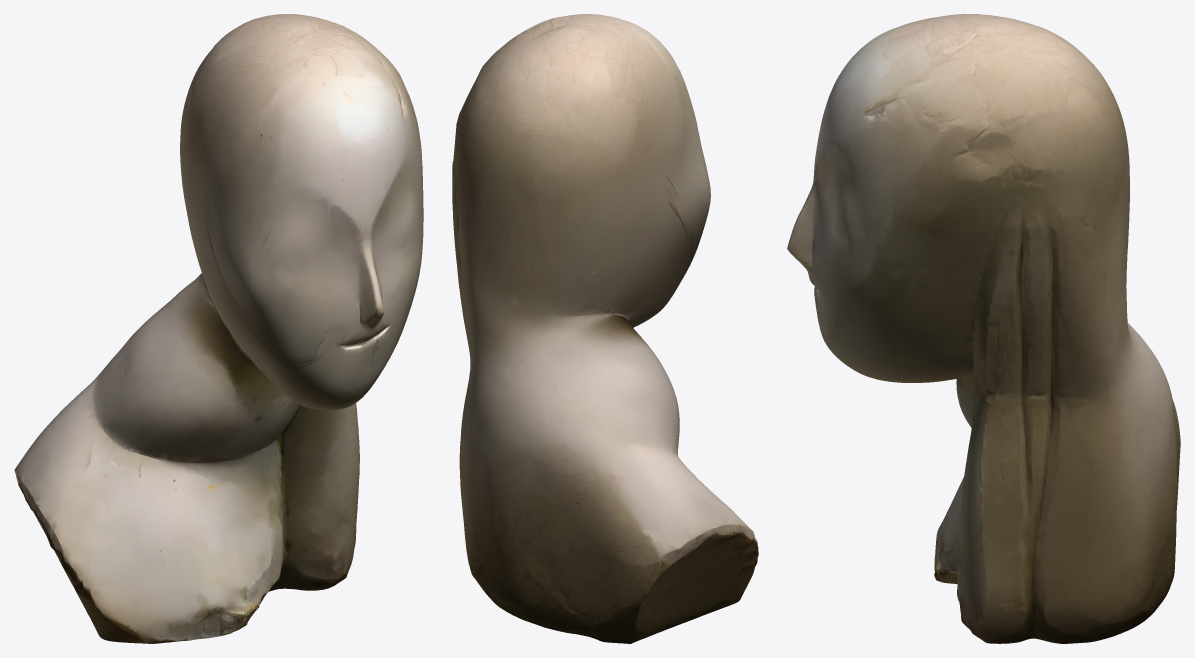
The model's file is brancusi.glb.
3 renders of one model, left to right at view 1: azimuth 30°, elevation 25°; view 2: azimuth 150°, elevation 25°; view 3: azimuth 270°, elevation 25°, orthographic. The views are drawn at different scales.
Parts seen in each view (by area): view 1: model; view 2: model; view 3: model.
Part boxes in pixels (<box>): model: <box>14,14,423,643</box>; model: <box>452,14,758,643</box>; model: <box>787,14,1180,643</box>.
Bounding box in the file's own units: 1.02 × 1.72 × 1.02.
Materials: 1 (1 with a texture image).
